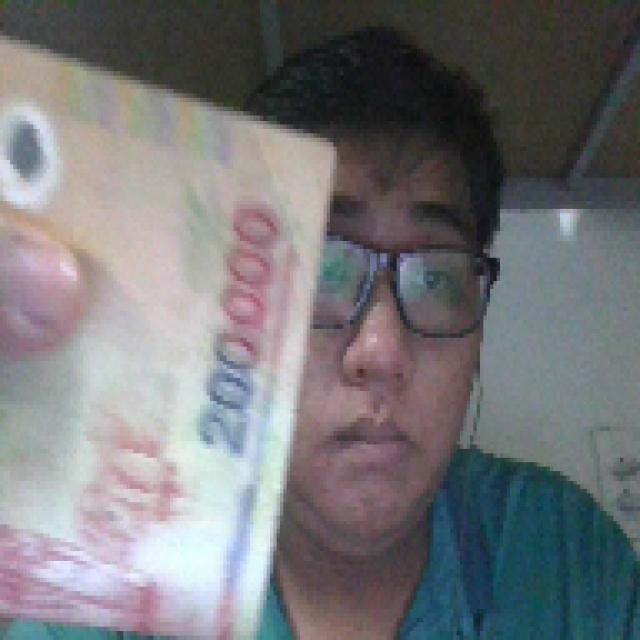200 000 VND: (0, 14, 340, 636)
